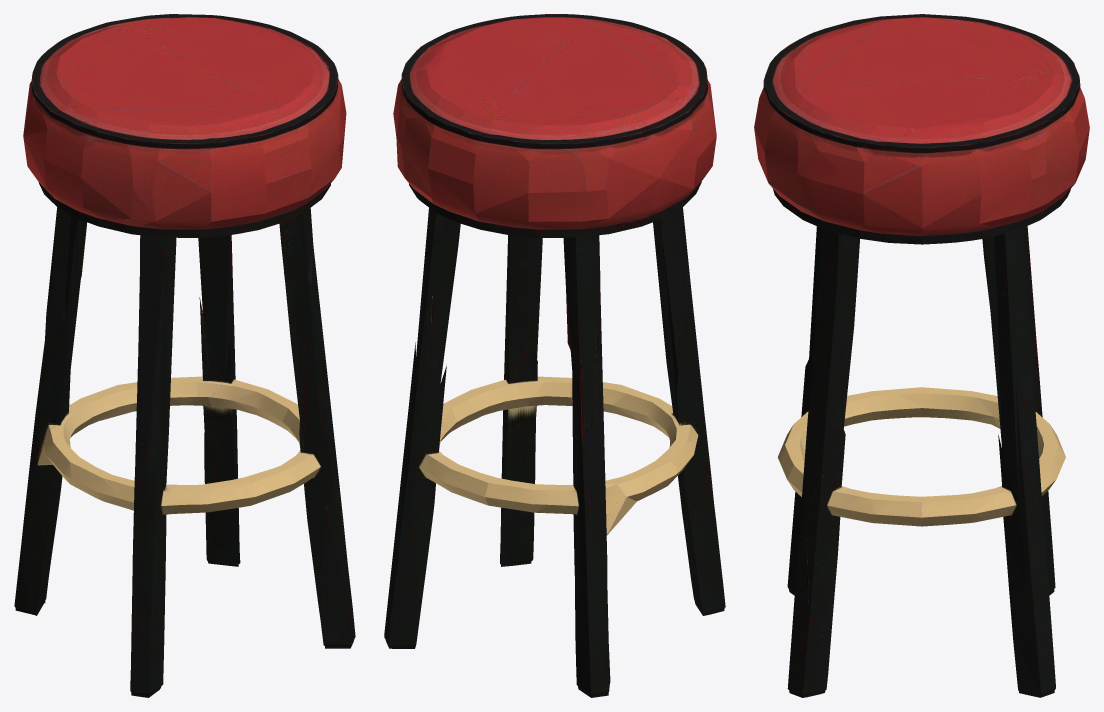
Rendered from stool.glb.
The picture shows the model from 3 angles, left to right: view 1: azimuth 30°, elevation 25°; view 2: azimuth 150°, elevation 25°; view 3: azimuth 270°, elevation 25°; orthographic projection. The views are drawn at different scales.
Bounding box in the file's own units: 1.02 × 1.9 × 1.02.
1 material, 1 textured.
